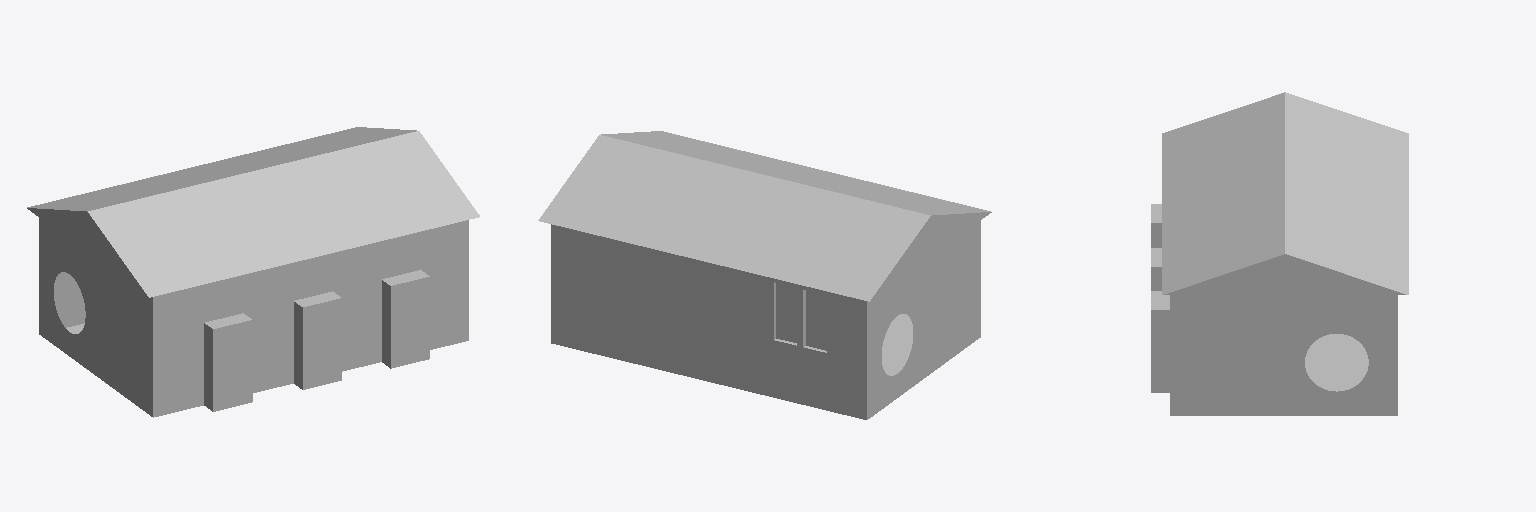
File: pump_station_pumps.obj
The picture shows the model from 3 angles: view 1: azimuth 30°, elevation 25°; view 2: azimuth 150°, elevation 25°; view 3: azimuth 270°, elevation 25°; orthographic projection.
Parts seen in each view (by area): view 1: obj1; view 2: obj1; view 3: obj1.
Boxes of the visible parts, <box> form: obj1: <box>27,127,479,417</box>; obj1: <box>538,131,991,419</box>; obj1: <box>1151,92,1408,415</box>.
Size of the model in its own units: 4.2 by 2.01 by 2.82.